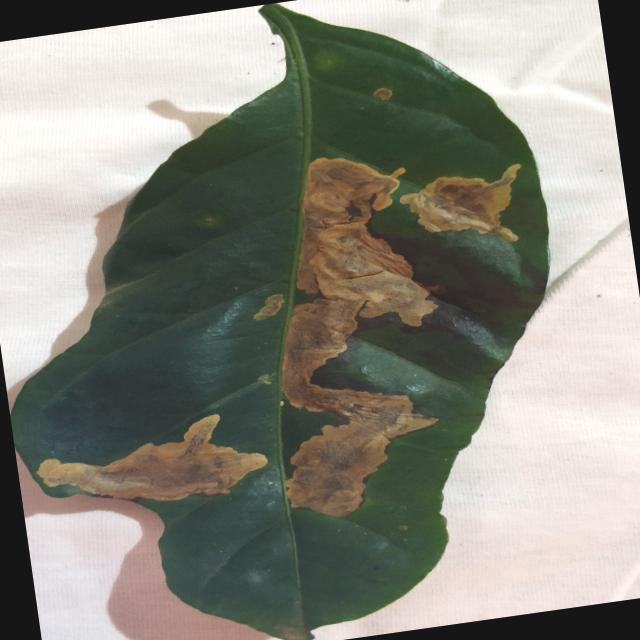KaratDaunKopi: (282, 158, 437, 517), (37, 414, 267, 500), (401, 164, 520, 242), (253, 294, 284, 320), (374, 88, 392, 100), (258, 374, 271, 384)
